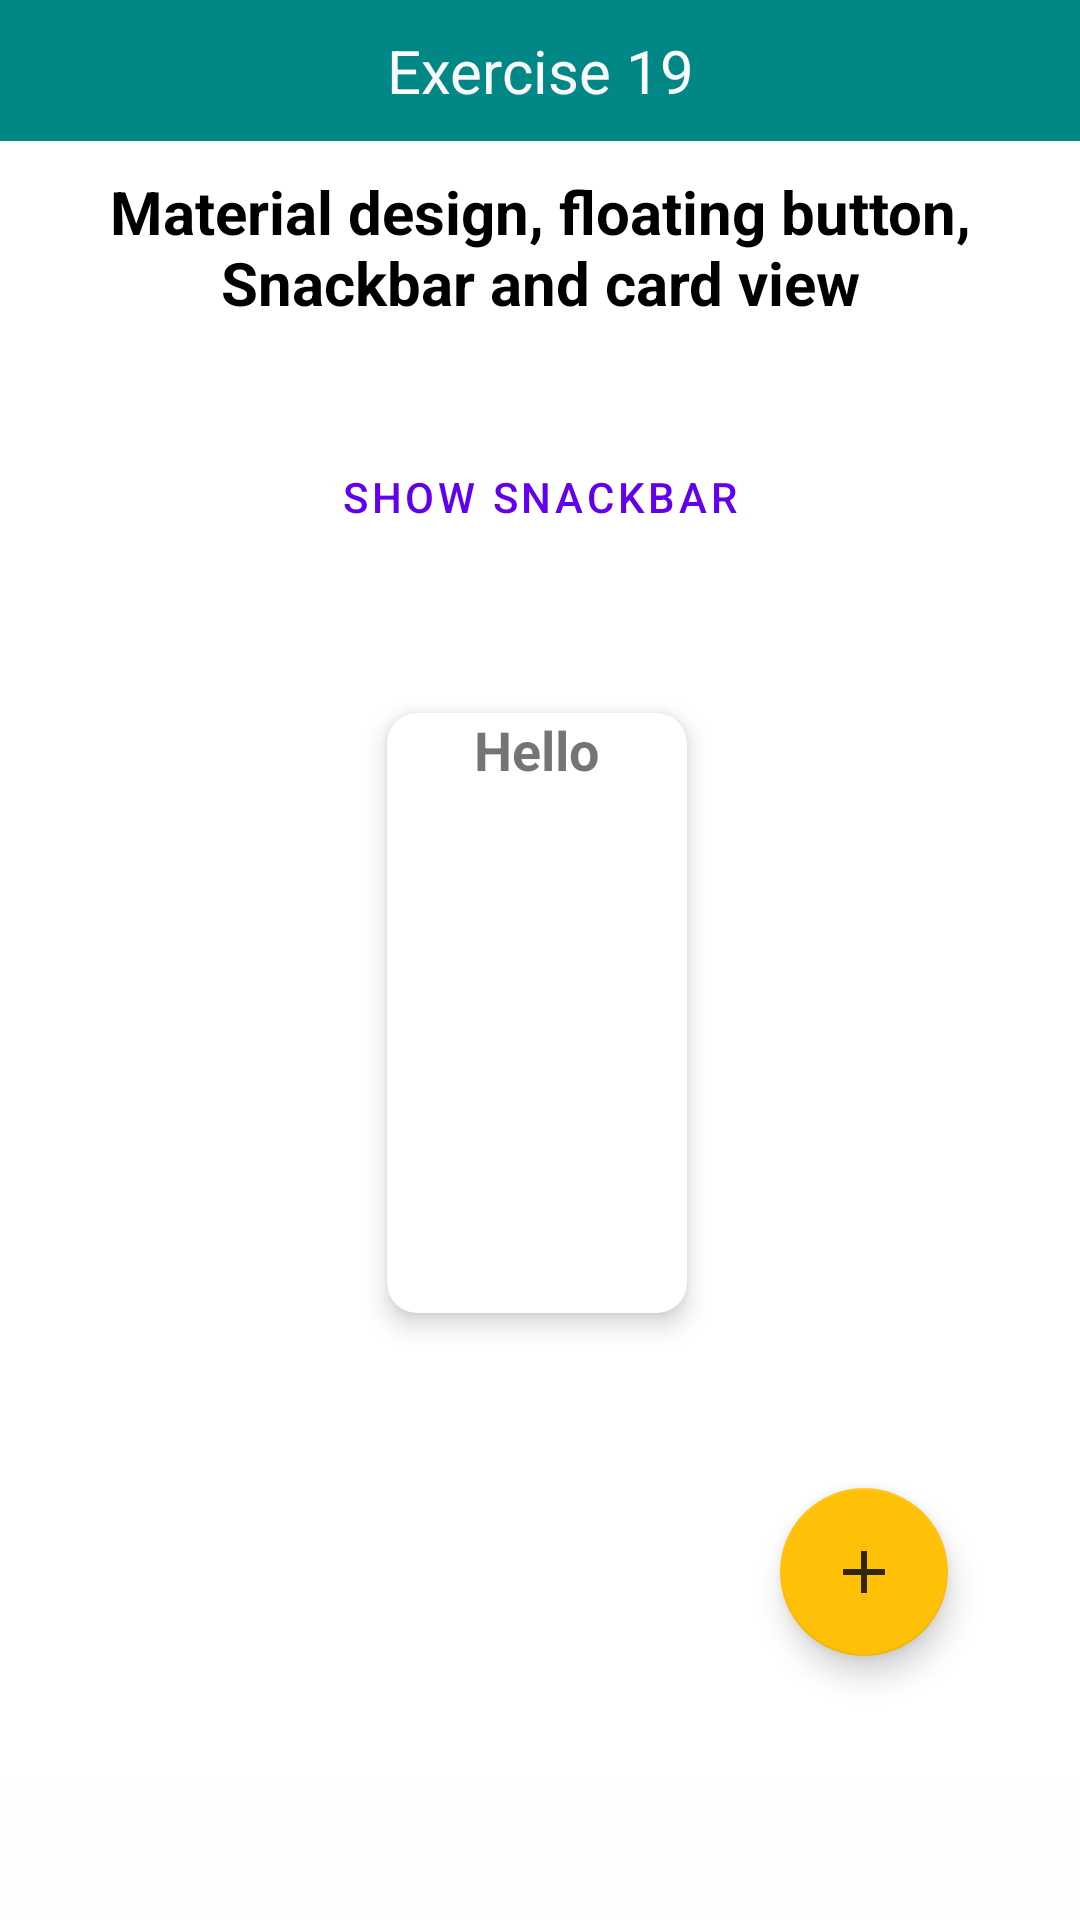

Icons on this 1080x1920 Android screen, each with the point to tap as (x,y):
add: (864,1572)
